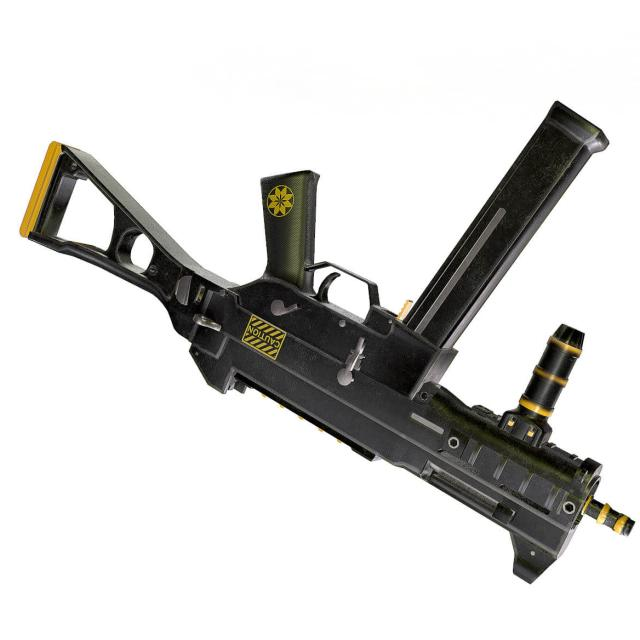Gun: (35, 96, 624, 578)
